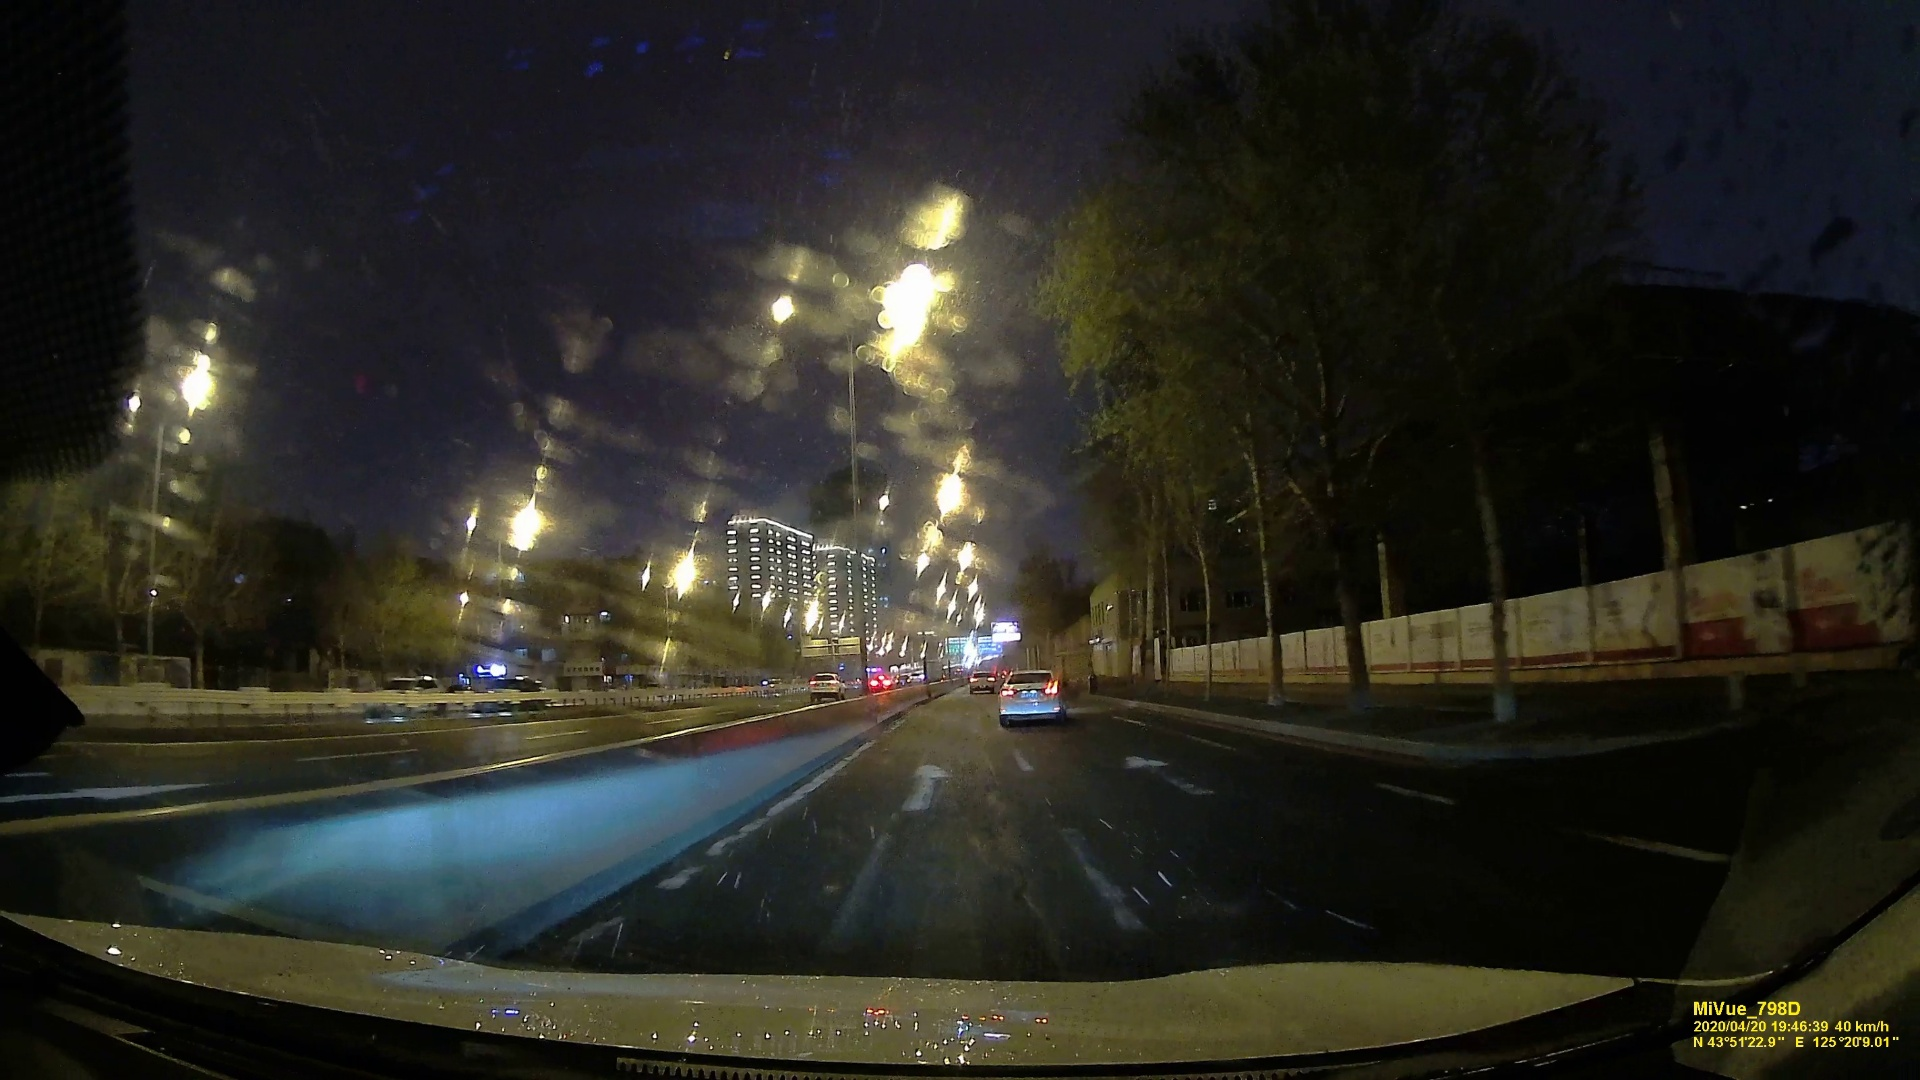traffic_sign: (943, 636, 969, 655), (978, 636, 1002, 651)
vehicle: (1000, 669, 1062, 727), (367, 674, 446, 716), (810, 674, 845, 699), (968, 673, 996, 694)
